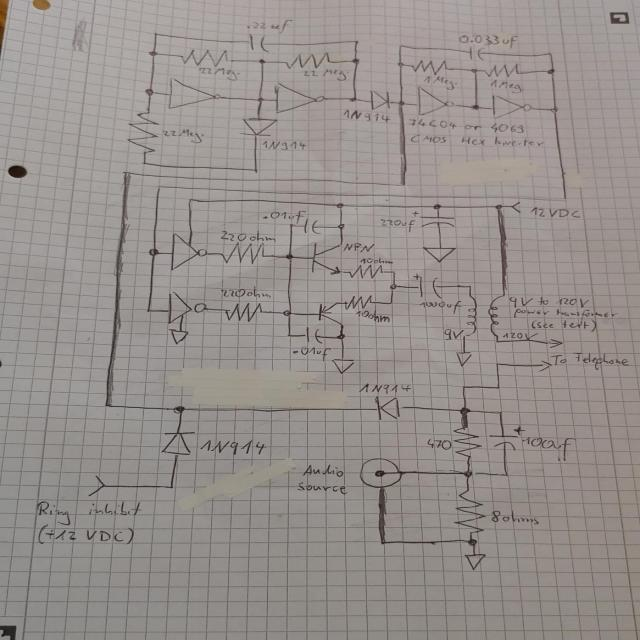capacitor: (486, 424, 526, 452), (411, 272, 444, 300), (411, 210, 456, 229), (247, 34, 270, 53), (300, 218, 320, 235), (304, 326, 321, 344), (467, 45, 486, 61)
diode: (158, 430, 194, 456), (238, 116, 278, 138), (374, 394, 402, 422), (368, 89, 391, 111)
ground: (421, 245, 458, 262), (463, 552, 487, 572), (330, 358, 356, 376), (167, 327, 191, 345), (454, 352, 473, 366)
junction: (141, 86, 156, 97), (145, 246, 160, 257), (171, 404, 186, 414), (461, 468, 475, 478), (375, 537, 388, 547), (282, 308, 294, 318), (554, 195, 570, 202), (548, 106, 561, 114), (468, 103, 481, 111), (469, 66, 480, 75), (466, 538, 478, 546), (458, 406, 470, 414), (544, 67, 556, 75), (431, 202, 443, 210), (148, 49, 159, 57), (349, 57, 360, 65), (284, 252, 294, 260), (335, 332, 345, 340), (335, 222, 345, 230), (143, 306, 153, 314), (396, 99, 406, 107), (121, 168, 131, 176), (255, 58, 268, 64), (165, 483, 176, 490), (395, 60, 404, 68), (388, 283, 398, 290), (256, 96, 266, 103), (348, 96, 358, 102), (334, 202, 344, 208), (494, 203, 502, 210), (502, 471, 511, 477), (102, 402, 111, 408), (150, 31, 160, 36), (351, 38, 359, 44), (386, 300, 394, 306), (186, 197, 194, 203), (396, 43, 404, 49), (398, 182, 406, 188), (285, 332, 293, 338), (140, 160, 147, 166), (546, 50, 553, 56), (494, 384, 501, 390), (494, 361, 501, 367), (390, 270, 397, 276), (251, 168, 259, 173), (459, 384, 467, 389), (465, 284, 473, 289), (492, 338, 500, 343), (156, 184, 162, 190), (288, 222, 294, 228), (496, 410, 503, 414)
resistor: (126, 110, 158, 156), (453, 489, 485, 533), (177, 46, 234, 68), (216, 242, 268, 264), (451, 424, 481, 460), (222, 300, 266, 322), (282, 52, 333, 70), (410, 58, 451, 75), (483, 62, 522, 78), (347, 263, 384, 279), (342, 294, 374, 310)
terminal: (358, 456, 402, 488), (86, 476, 105, 498), (536, 359, 552, 372), (545, 338, 564, 348), (510, 200, 522, 213)
text: (35, 500, 142, 525), (404, 116, 527, 137), (408, 133, 546, 150), (37, 523, 136, 546), (522, 434, 577, 462), (549, 352, 629, 371), (198, 438, 266, 456), (512, 308, 618, 319), (527, 317, 599, 333), (457, 32, 520, 49), (507, 296, 595, 308), (245, 16, 295, 36), (488, 508, 541, 526), (295, 480, 348, 496), (217, 229, 277, 243), (528, 205, 582, 219), (288, 344, 330, 362), (341, 108, 391, 123), (159, 128, 205, 144), (356, 381, 411, 394), (260, 209, 307, 224), (219, 286, 273, 299), (260, 138, 307, 152), (194, 66, 240, 80), (300, 463, 343, 477), (300, 68, 348, 80), (378, 218, 416, 232), (419, 299, 459, 312), (487, 78, 523, 92), (422, 76, 458, 90), (354, 308, 389, 322), (342, 241, 377, 253), (501, 331, 539, 341), (358, 255, 394, 265), (424, 438, 452, 450), (442, 328, 462, 341)
transformer: (460, 292, 506, 337)
transistor: (307, 240, 342, 276), (315, 302, 343, 326)
